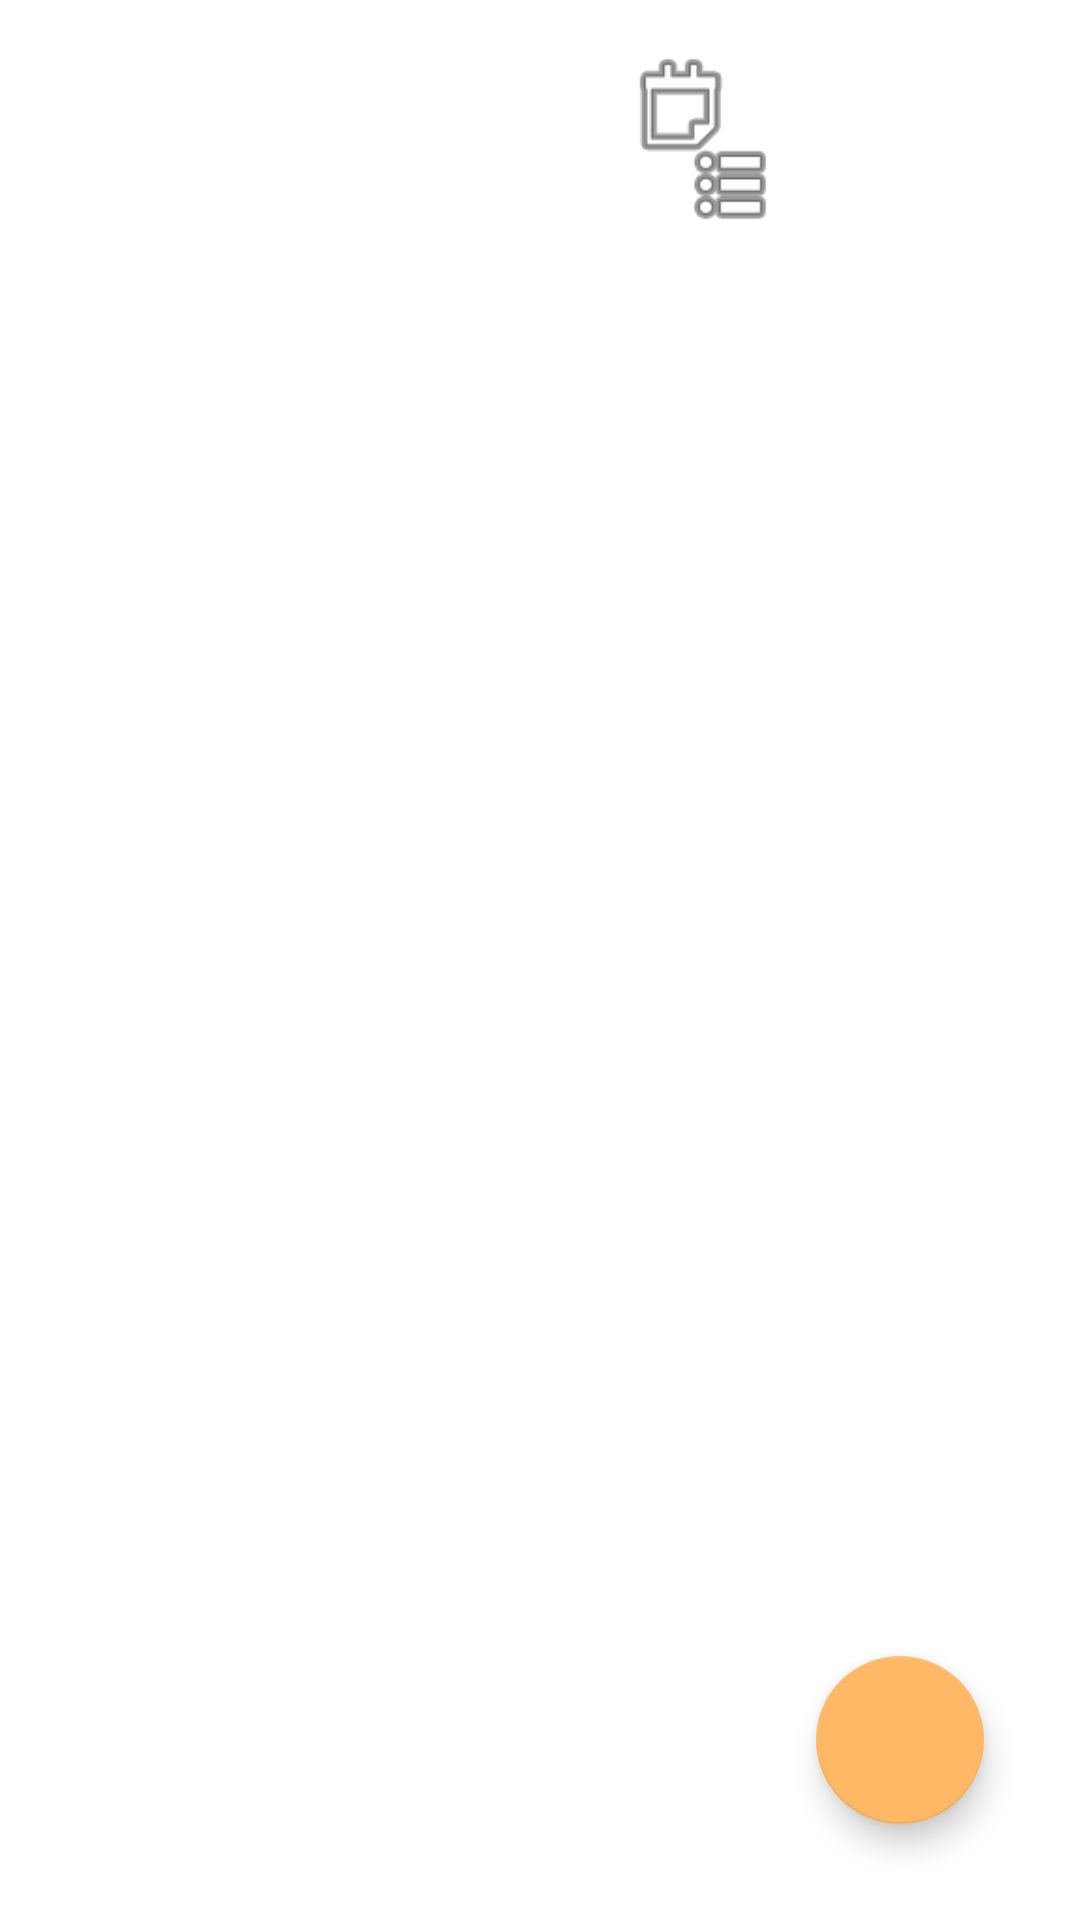

Icon click points for this 1080px x 1920px phone screenshot, format point (x, y):
Calender: point (703, 139)
